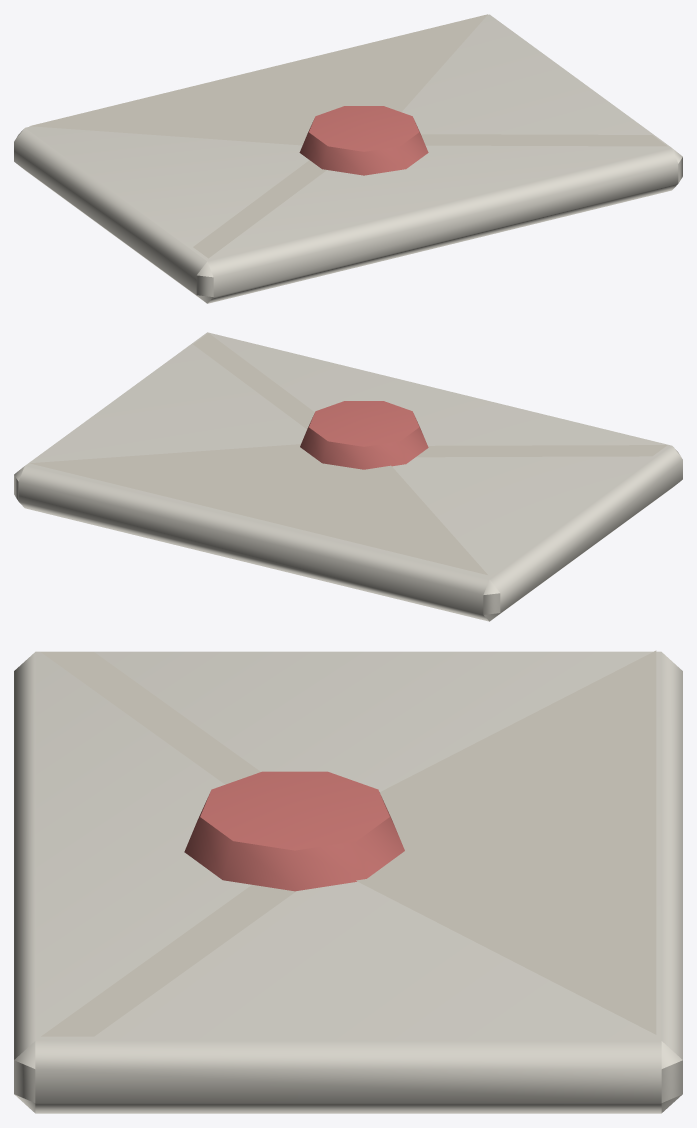
Rendered from letter.gltf.
3 views of the same model, one above another, from view 1: azimuth 30°, elevation 25°; view 2: azimuth 150°, elevation 25°; view 3: azimuth 270°, elevation 25° (orthographic). The views are drawn at different scales.
Parts seen in each view (by area): view 1: letter; view 2: letter; view 3: letter.
Boxes of the visible parts, x1=… form: letter: x1=14, y1=14, x2=682, y2=303; letter: x1=14, y1=332, x2=682, y2=621; letter: x1=14, y1=650, x2=682, y2=1113.
Size of the model in its own units: 0.36 by 0.047 by 0.25.
